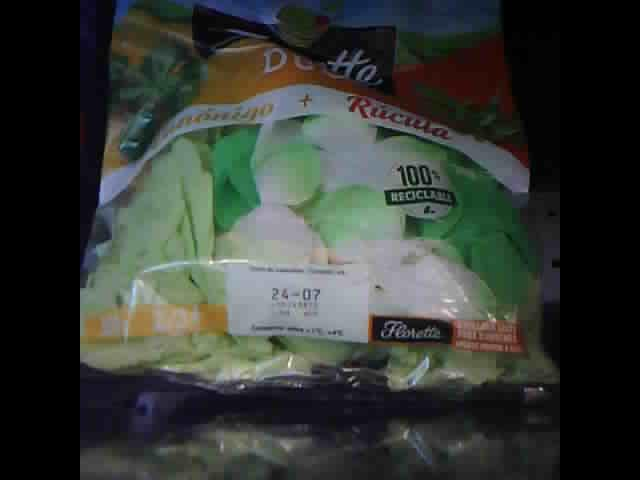florette: (82, 5, 556, 408)
